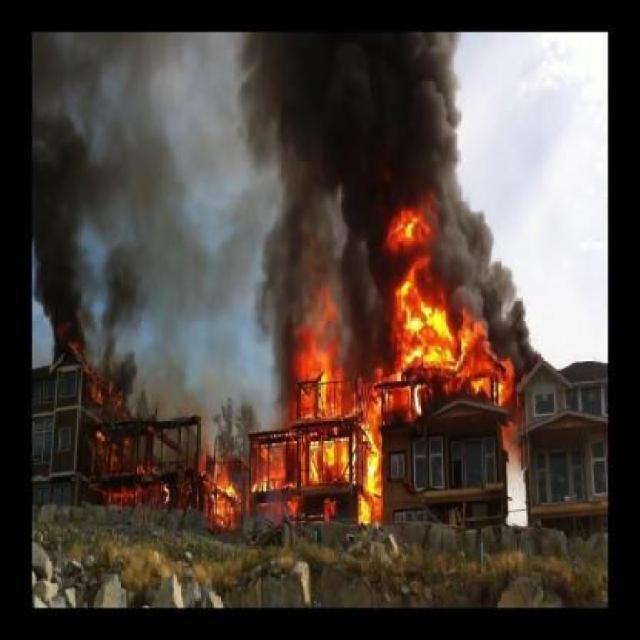Fire: (266, 222, 544, 532), (68, 384, 246, 548)
Smoke: (32, 41, 242, 304), (176, 39, 468, 195)
